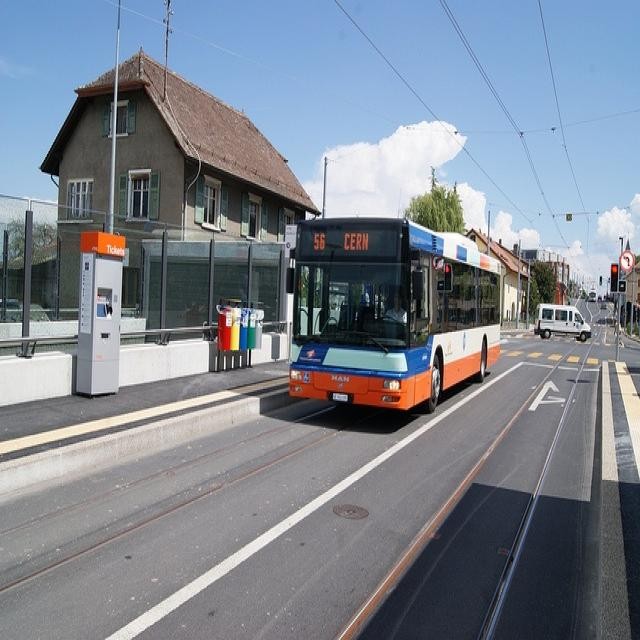ash bin: (215, 294, 263, 350)
bus: (287, 215, 500, 413)
car: (600, 301, 605, 308), (596, 292, 601, 299)
pole: (613, 290, 621, 362)
truck: (532, 300, 592, 341)
